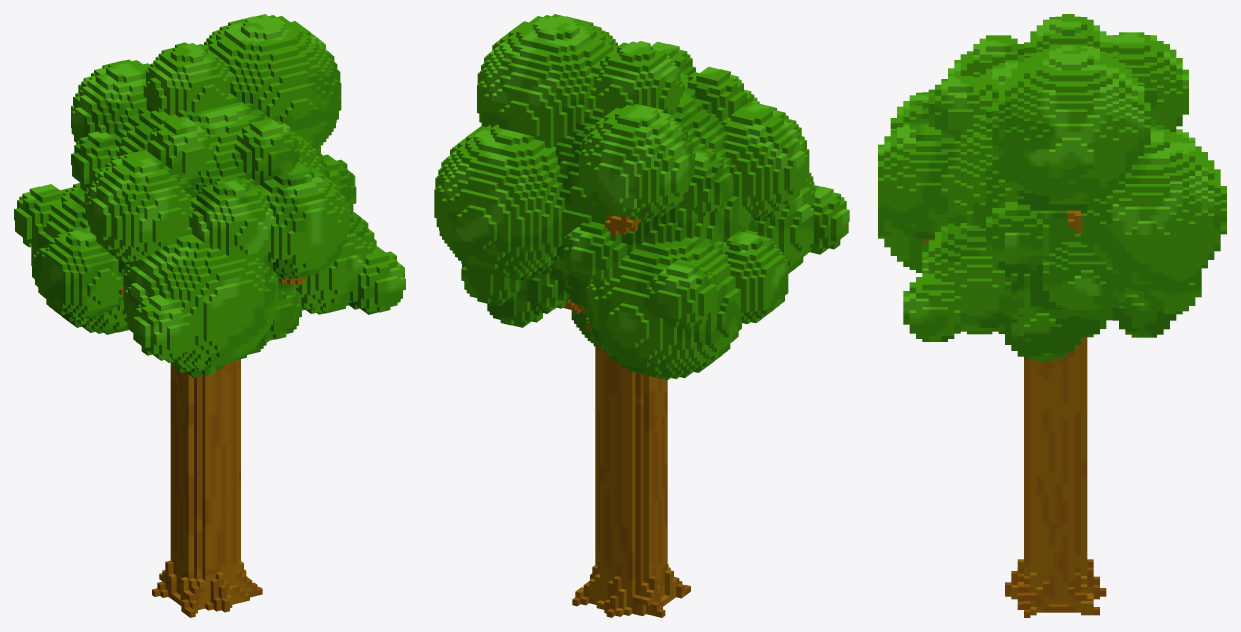
Rendered from Tree_Round.fbx.
3 renders of one model, left to right at view 1: azimuth 30°, elevation 25°; view 2: azimuth 150°, elevation 25°; view 3: azimuth 270°, elevation 25°, orthographic. The views are drawn at different scales.
Size of the model in its own units: 54 by 100 by 55.
